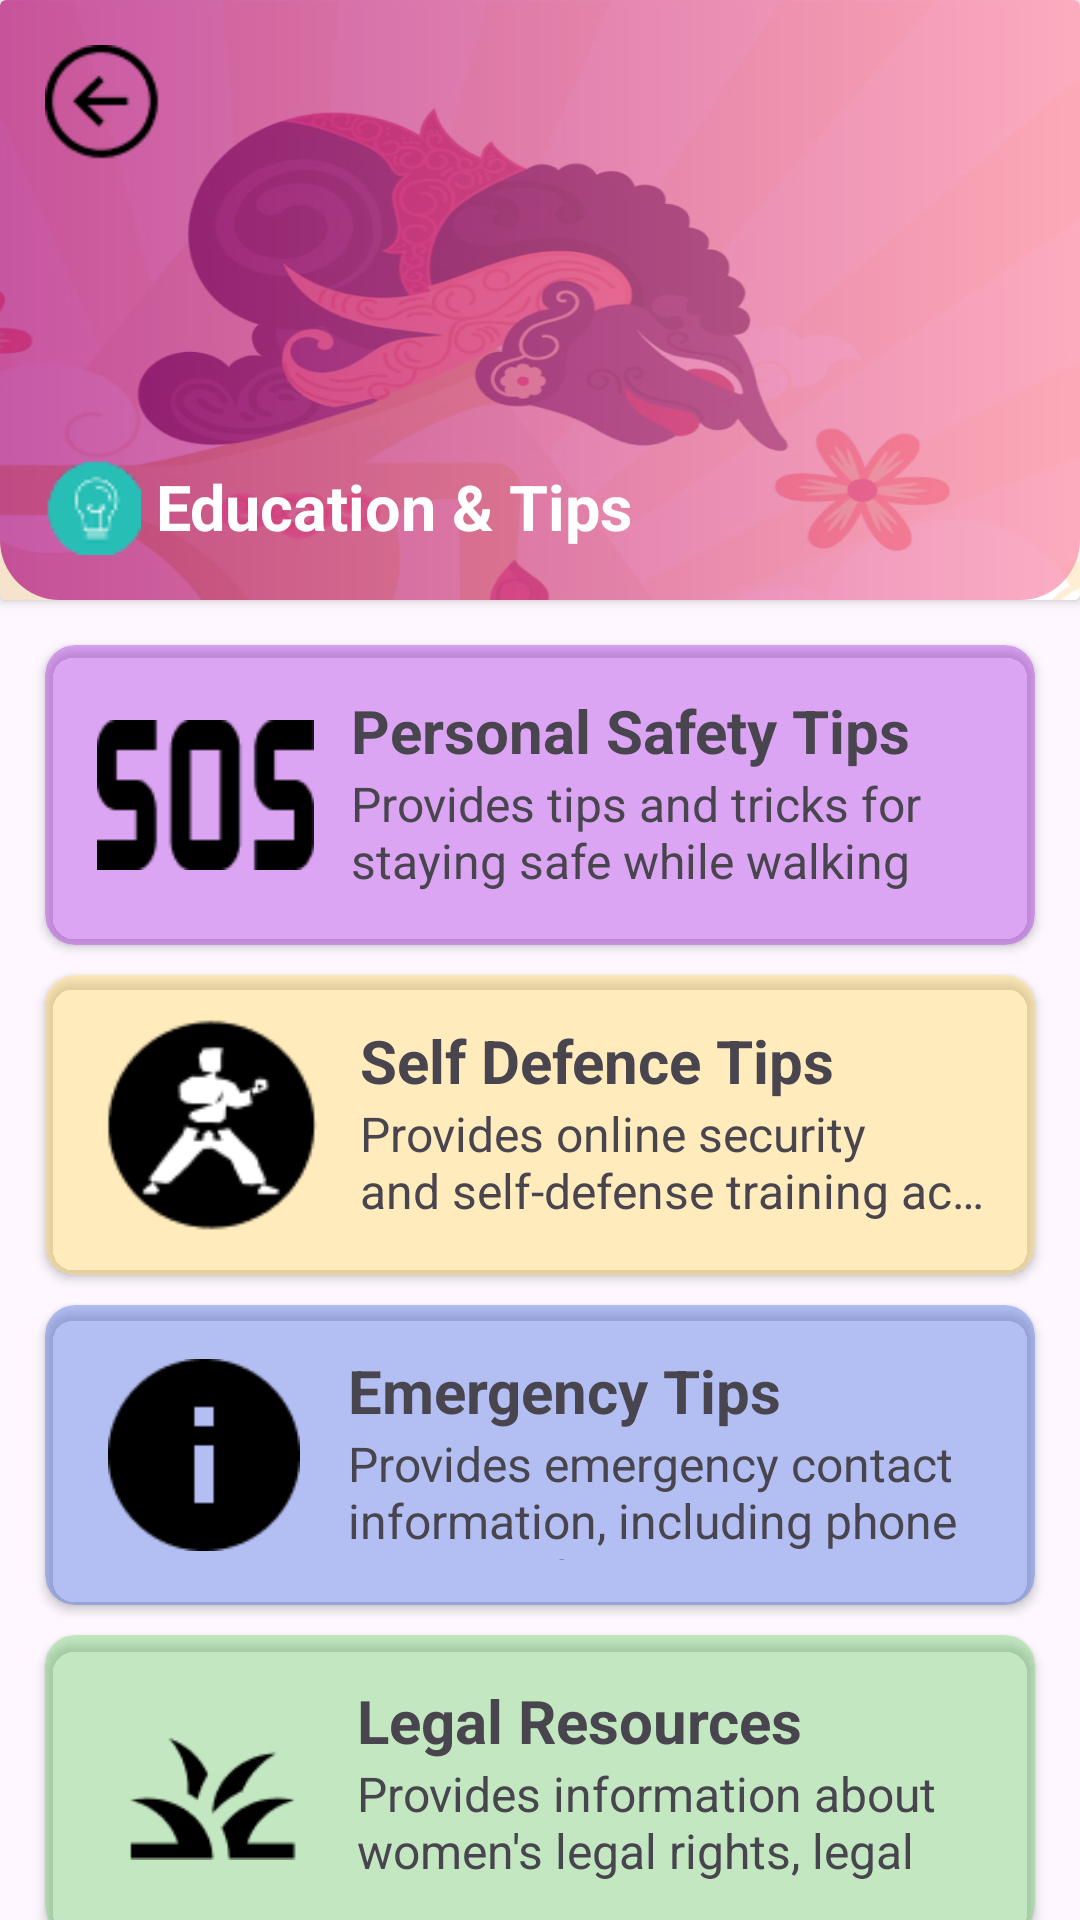

Screen size 1080 × 1920. Icon name, then its center in pixels as (x,y):
back: (102,102)
